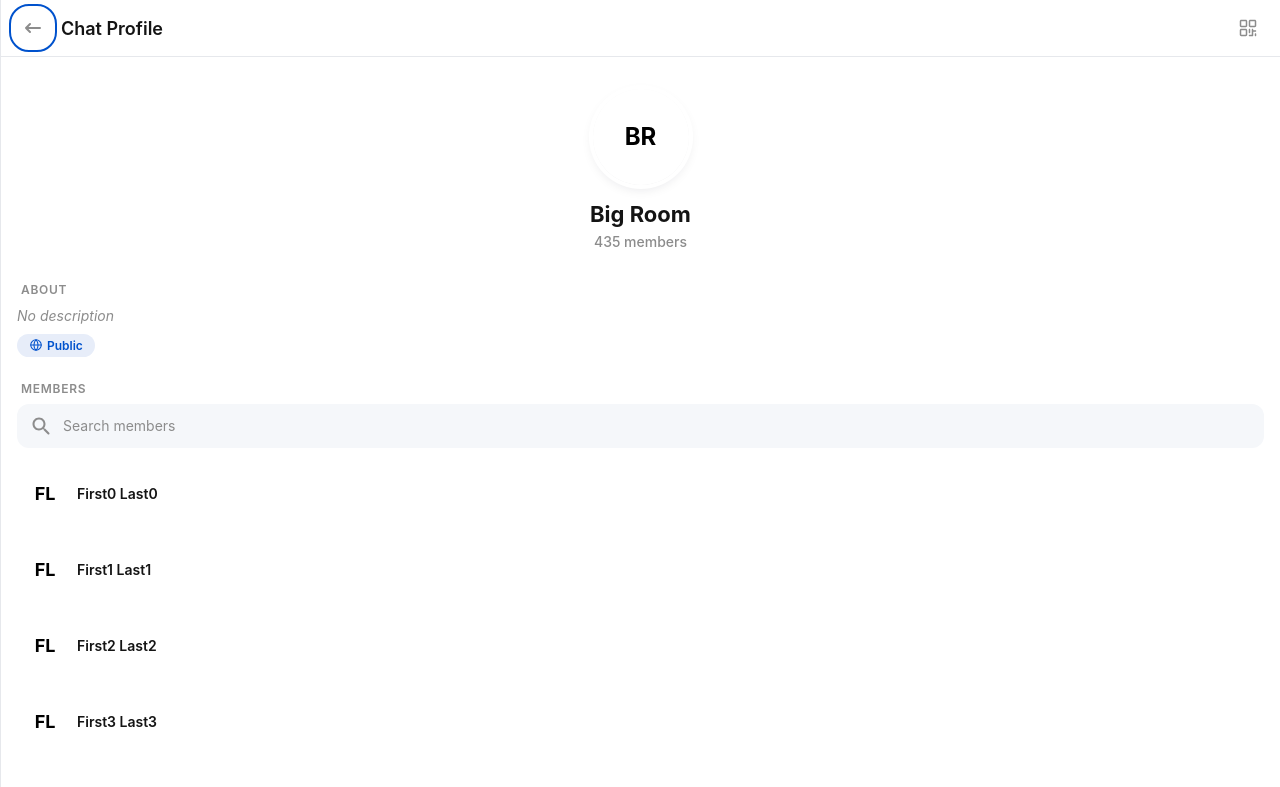
ChatProfileModal on a truncated big room › search runs over the directory, beyond the first 30
The image size is (1280, 787).
Type "First400" into the field with placeholder "Search members" at (656, 426), box [61,416,1252,435]
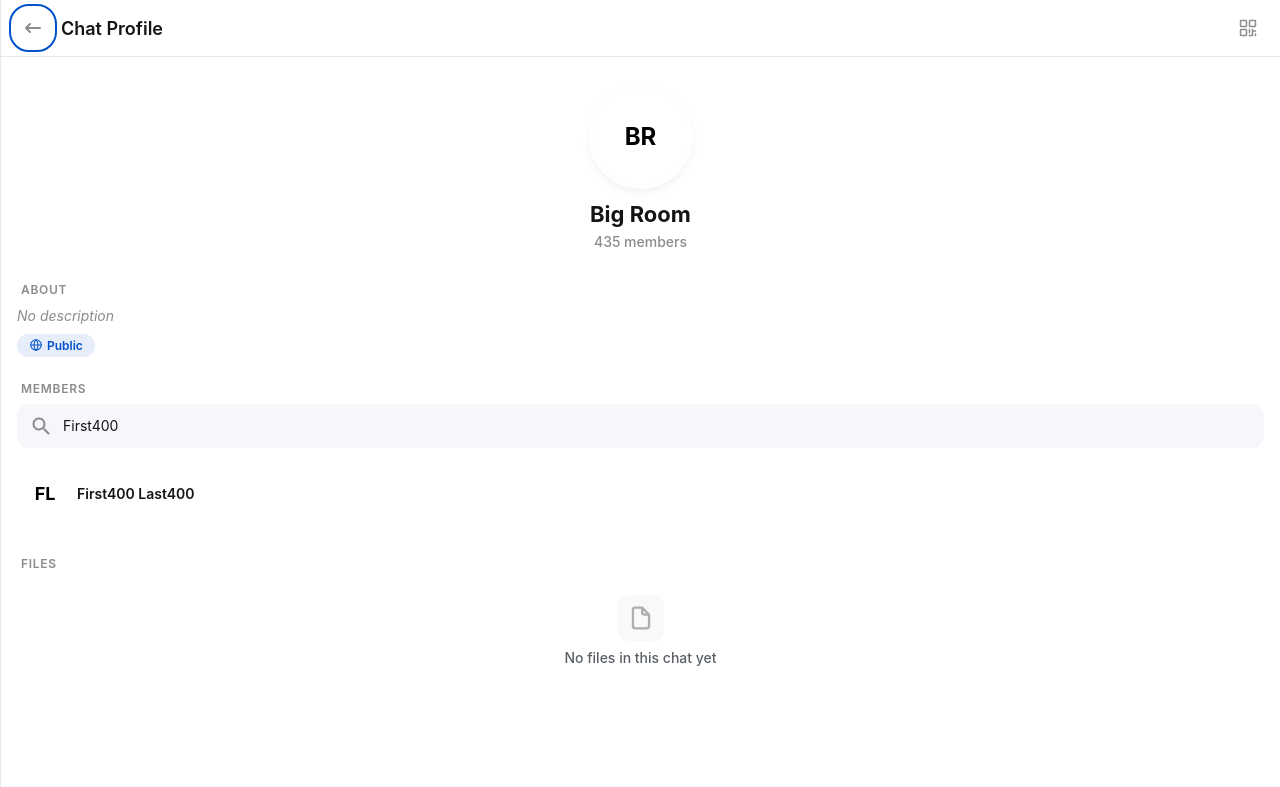
Result: the text "First400 Last400" is shown at [77,485,194,502]
Result: the button "First0 Last0" is gone
